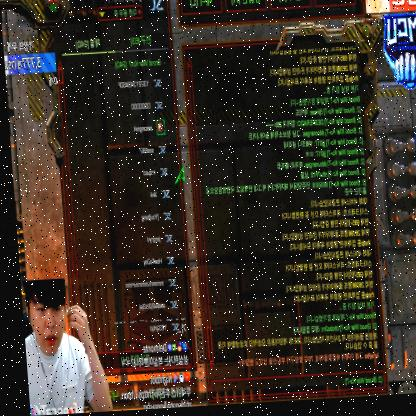streamer: (16, 276, 106, 416)
